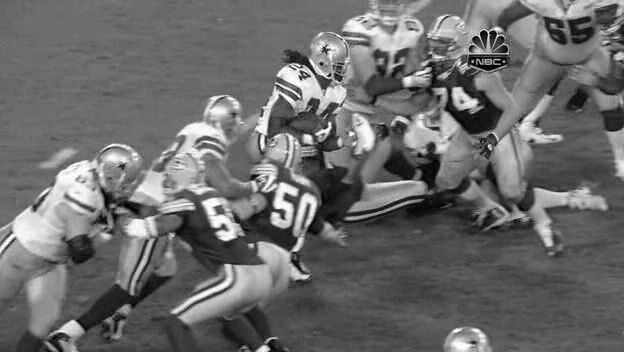person: (315, 36, 350, 80), (314, 36, 349, 80), (316, 36, 351, 80), (315, 35, 350, 79), (315, 37, 350, 81)
target_negative: (251, 25, 484, 341), (178, 155, 547, 233), (15, 267, 302, 319), (6, 232, 485, 239), (508, 47, 587, 60), (591, 214, 607, 230)
